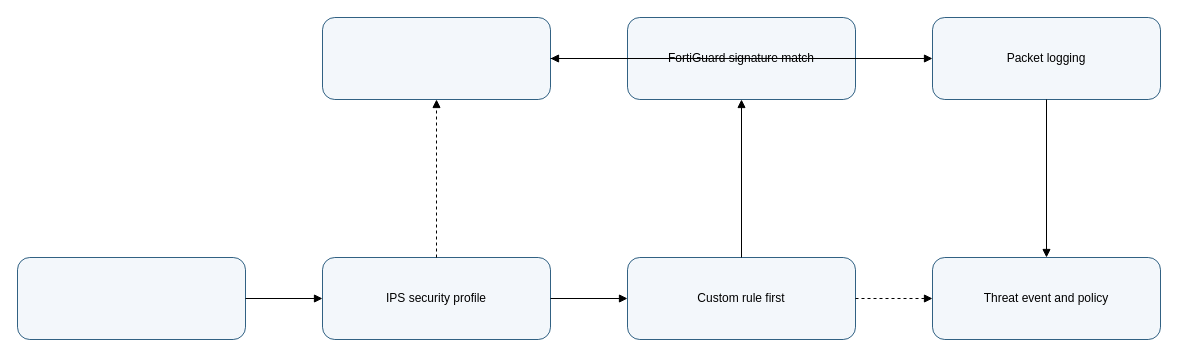
Image size: 1178x357. Some labels were removed from this diagram. Here are the shapes that lost their labels. From the top down, the centre of each, then its label:
the point at 436,58: Allow/monitor/block/default
the point at 131,298: Inspected session
